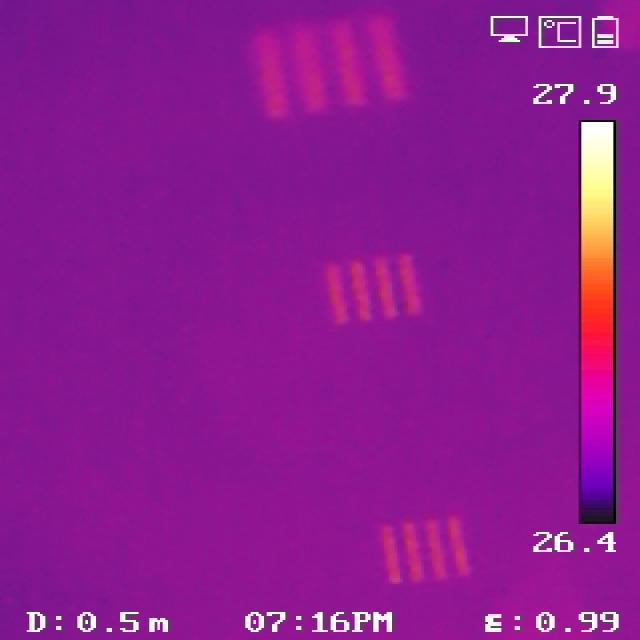Distinguishable 4-bar target: (254, 19, 414, 110), (320, 255, 427, 320), (380, 519, 475, 579)
